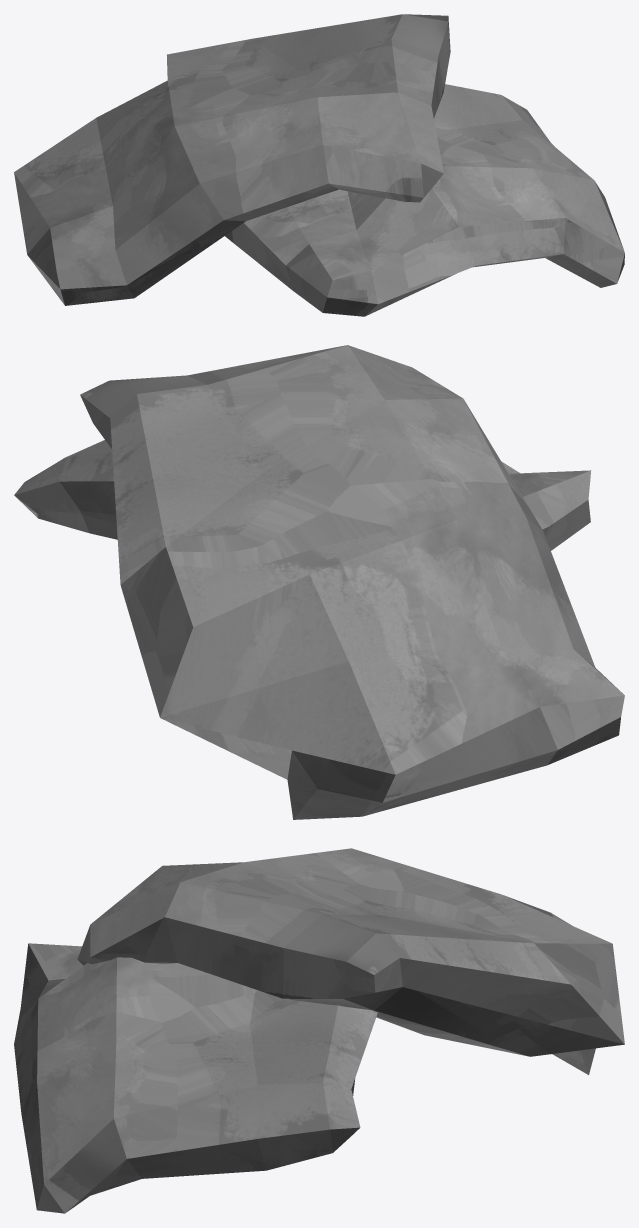
File: Concreto2.fbx
3 views of the same model, one above another, from view 1: azimuth 30°, elevation 25°; view 2: azimuth 150°, elevation 25°; view 3: azimuth 270°, elevation 25° (orthographic). The views are drawn at different scales.
Visible parts, largest first — view 1: Concret2; view 2: Concret2; view 3: Concret2.
Boxes of the visible parts, bbox=[...] form: Concret2: bbox=[14, 14, 624, 316]; Concret2: bbox=[14, 345, 624, 819]; Concret2: bbox=[14, 848, 624, 1213].
Size of the model in its own units: 290 by 128 by 266.
